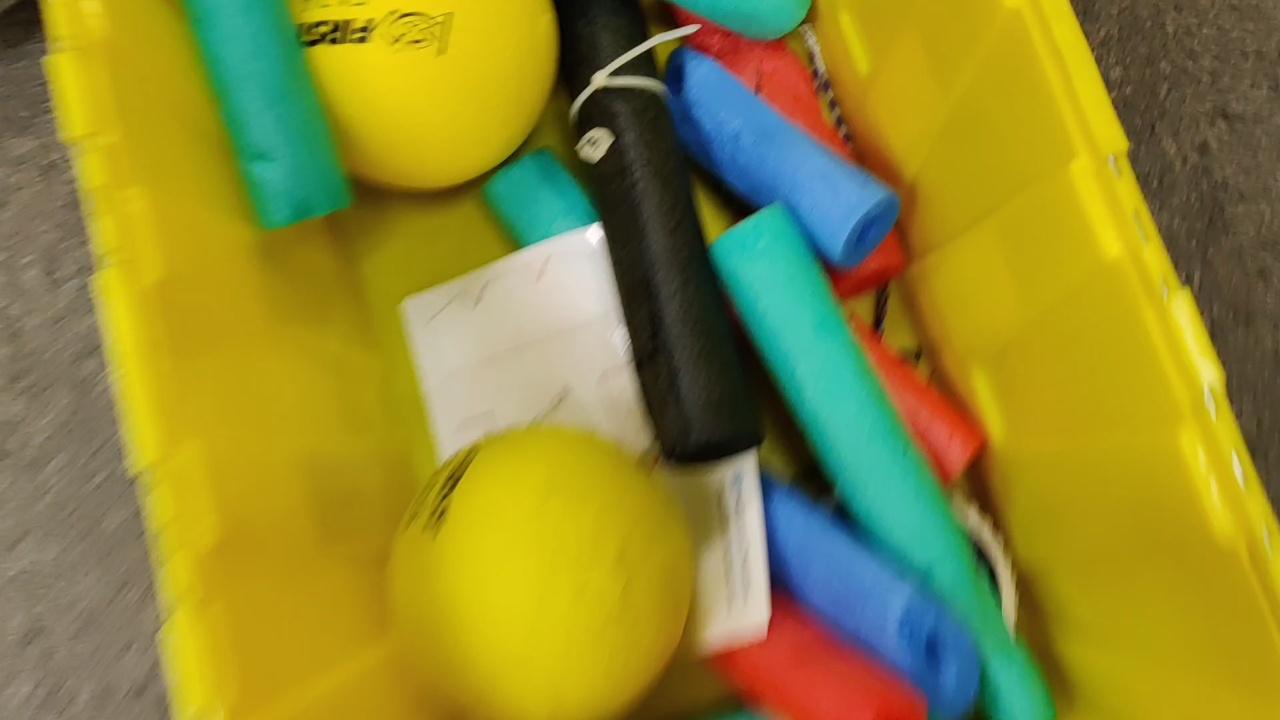Ball: (384, 427, 697, 718), (277, 1, 557, 195)
